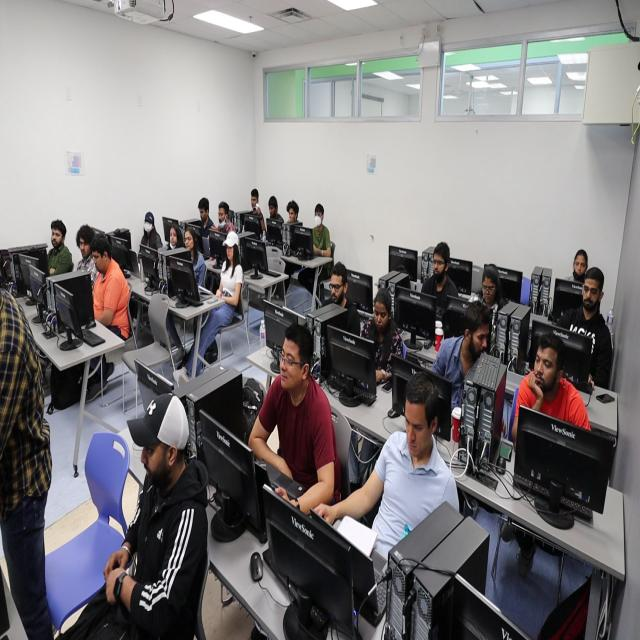Attentive: (278, 336, 302, 389), (533, 345, 556, 390), (140, 439, 164, 480), (432, 252, 446, 279), (573, 254, 587, 279), (80, 237, 90, 258), (51, 228, 60, 248), (144, 217, 154, 233), (170, 227, 178, 245), (226, 244, 234, 261), (314, 210, 322, 226), (251, 196, 258, 208), (289, 208, 295, 222)
Distracted: (404, 397, 428, 457), (582, 279, 599, 311), (472, 325, 488, 359), (329, 273, 345, 305), (373, 301, 390, 331), (482, 276, 496, 304), (92, 251, 103, 273), (184, 230, 194, 249), (218, 207, 227, 227), (199, 207, 207, 222), (269, 205, 277, 218)
